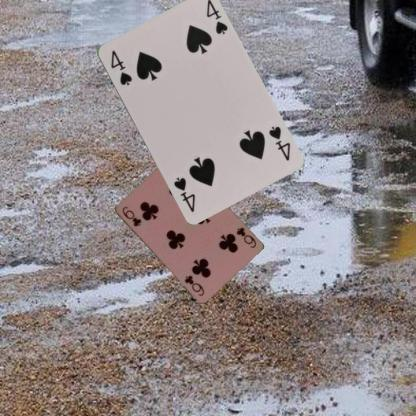4s: (107, 47, 133, 87), (266, 123, 291, 162)
6c: (119, 204, 142, 228), (234, 225, 257, 249)
